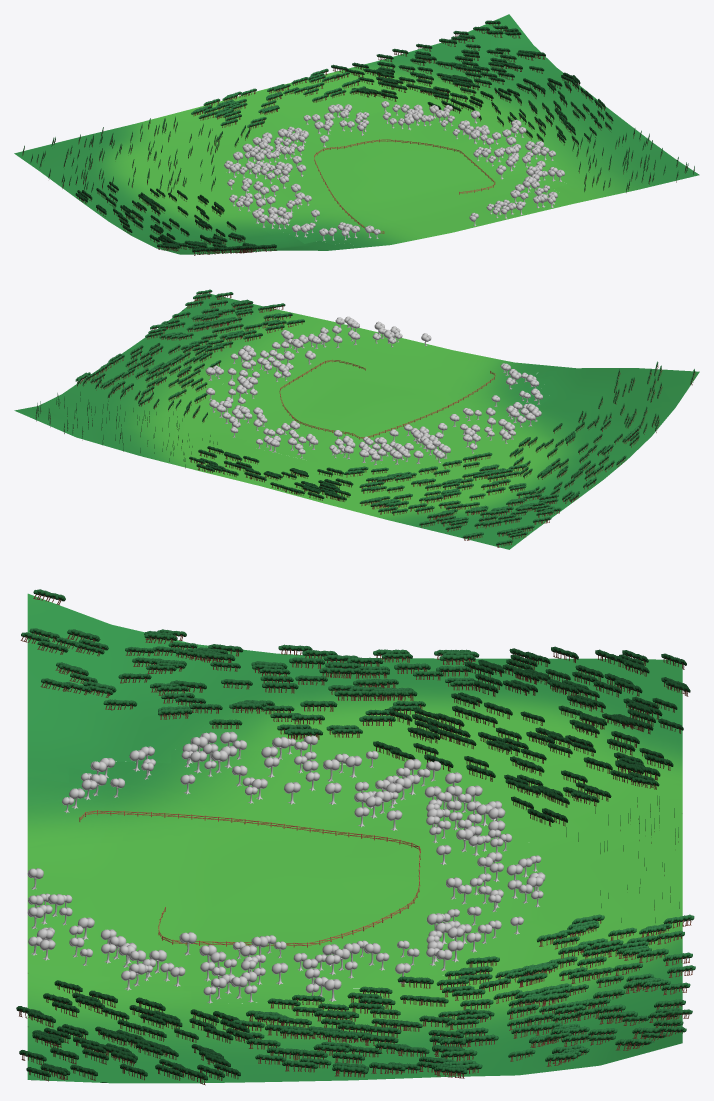
Rendered from farming scene.fbx.
The picture shows the model from 3 angles, top to bottom: view 1: azimuth 30°, elevation 25°; view 2: azimuth 150°, elevation 25°; view 3: azimuth 270°, elevation 25°; orthographic projection. The views are drawn at different scales.
Visible parts, largest first — view 1: EXPORT_GOOGLE_SAT_WM, EXPORT_GOOGLE_SAT_WM.001, Plane.398, Icosphere.010, Cube.005; view 2: EXPORT_GOOGLE_SAT_WM, EXPORT_GOOGLE_SAT_WM.001, Plane.398, Icosphere.010, Cube.005; view 3: EXPORT_GOOGLE_SAT_WM, EXPORT_GOOGLE_SAT_WM.001, Plane.398, Icosphere.010, Cube.005.
Part boxes in pixels (x1,y1,x2,y2): EXPORT_GOOGLE_SAT_WM: [14, 14, 699, 254]; EXPORT_GOOGLE_SAT_WM.001: [221, 109, 567, 247]; Plane.398: [22, 20, 694, 255]; Icosphere.010: [224, 101, 564, 240]; Cube.005: [314, 139, 495, 233]; EXPORT_GOOGLE_SAT_WM: [14, 293, 699, 549]; EXPORT_GOOGLE_SAT_WM.001: [200, 324, 551, 466]; Plane.398: [35, 289, 695, 547]; Icosphere.010: [205, 316, 542, 465]; Cube.005: [279, 359, 495, 439]; EXPORT_GOOGLE_SAT_WM: [27, 593, 682, 1083]; EXPORT_GOOGLE_SAT_WM.001: [27, 749, 539, 1004]; Plane.398: [16, 589, 695, 1085]; Icosphere.010: [27, 731, 545, 1003]; Cube.005: [79, 810, 420, 947].
Bounding box in the file's own units: 221 × 152 × 23.14.
